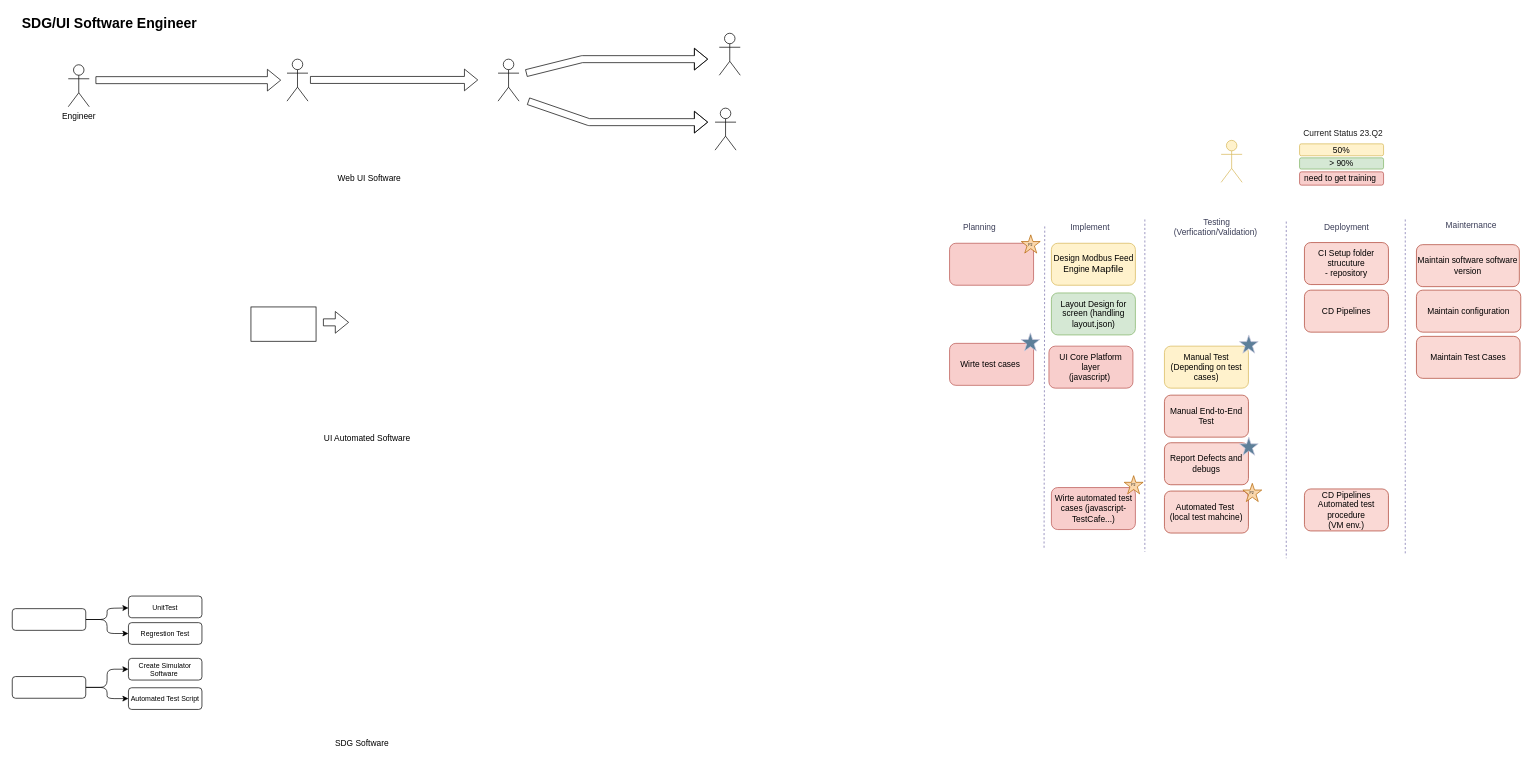
Image size: 1533x766. Some labels were removed from this diagram. Here are the shapes that lost their labels. From the top down, the box of each, then its label:
(719, 33, 740, 75): Technologist
(286, 58, 308, 101): Senior
(497, 58, 519, 101): Lead
(714, 107, 736, 150): Project/Technical Manager
(1220, 140, 1242, 182): Owen should be capable with ...
(949, 243, 1034, 285): Wirte Requirments
(250, 306, 316, 341): Knowledge of NodeJS
(12, 608, 86, 630): Codesys Test Manager
(12, 676, 86, 698): Python Test Software
